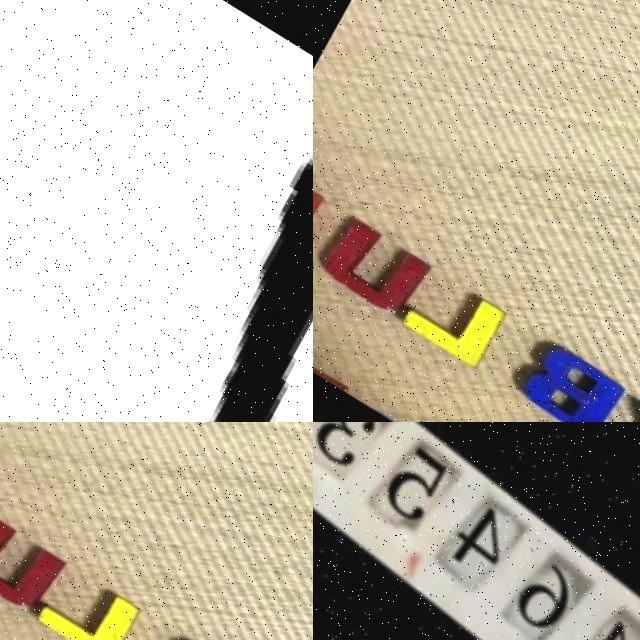3: (313, 422, 409, 494)
4: (422, 472, 543, 603), (556, 585, 640, 640)
5: (356, 422, 479, 549)
6: (484, 527, 609, 640)
B: (504, 329, 620, 422)
E: (313, 160, 326, 255)
L: (0, 0, 313, 422), (391, 263, 504, 369), (23, 559, 139, 640)
U: (313, 207, 427, 317), (0, 503, 63, 615)
